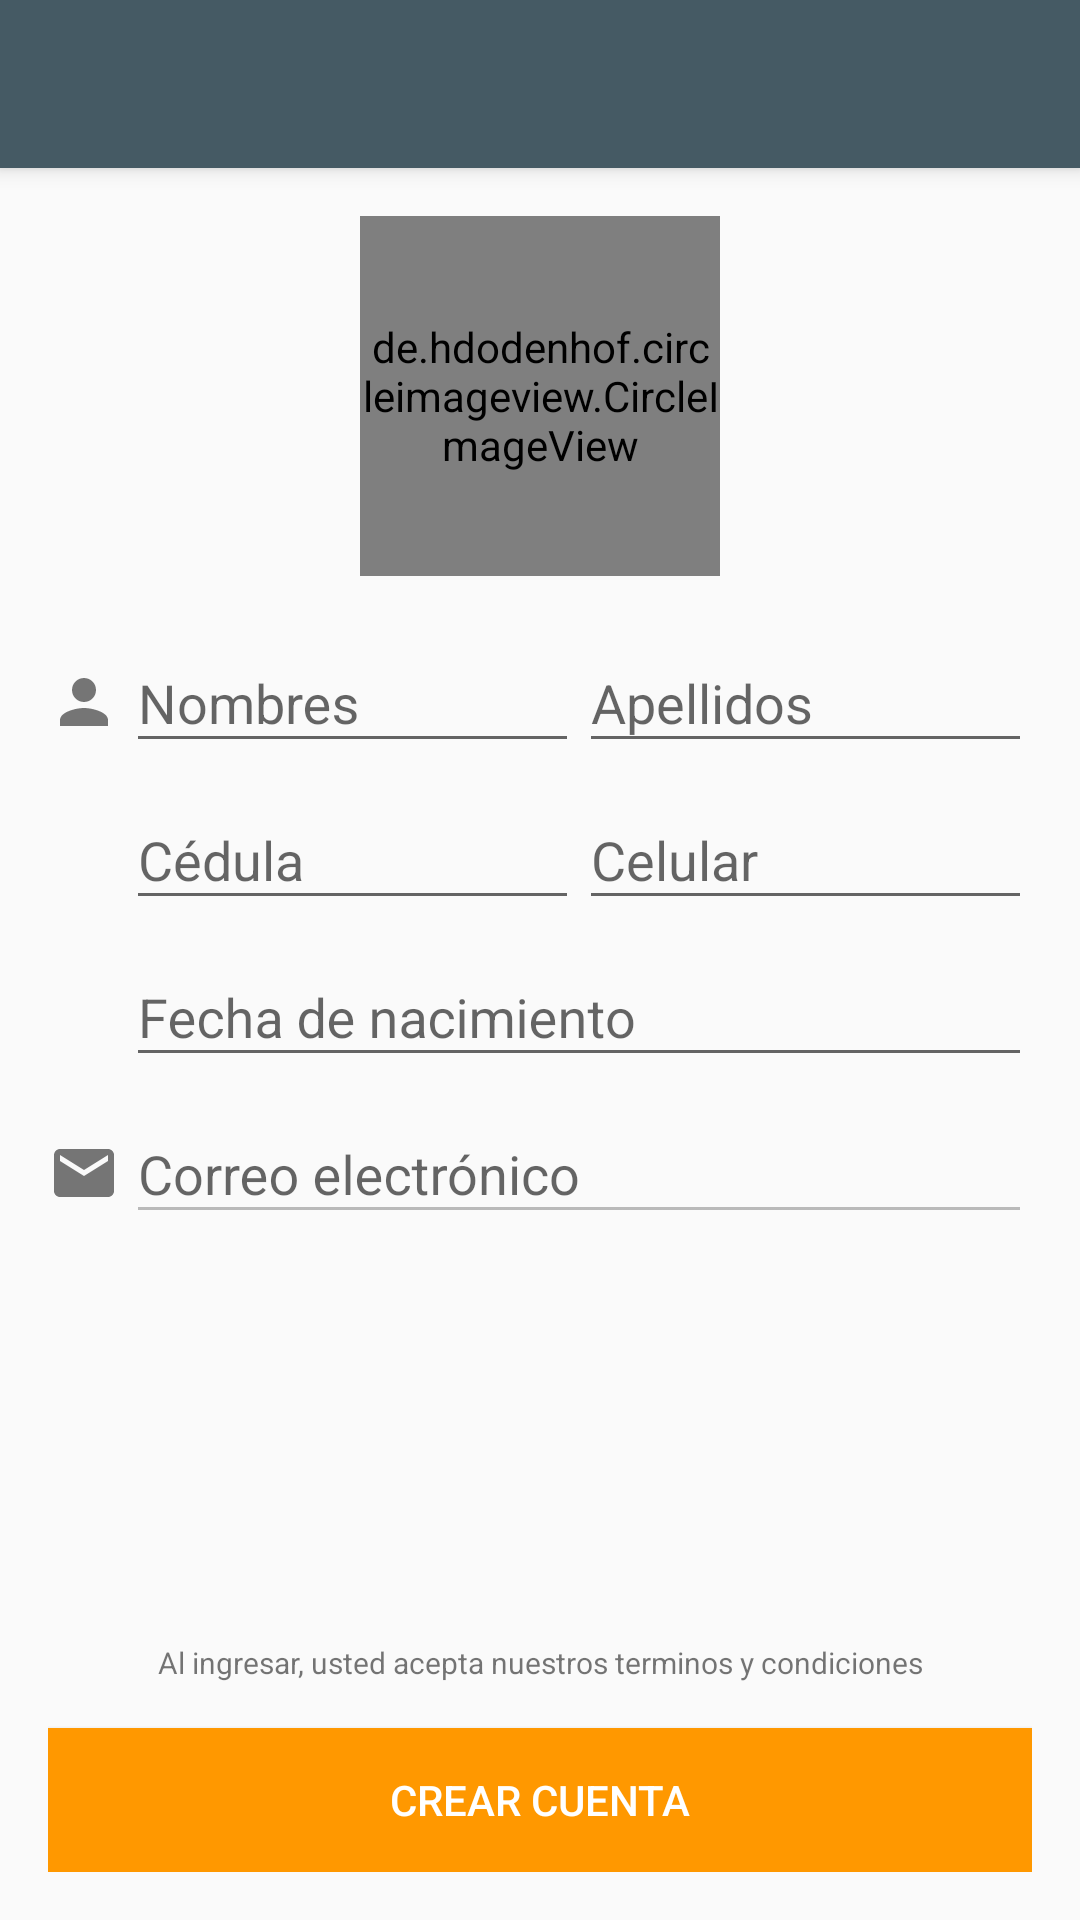

Icon bounding boxes for this 1080 x 1920 phone screenshot, format (x1, y1, x2, y2):
email: (54, 1149, 114, 1197)
person: (60, 678, 108, 726)
